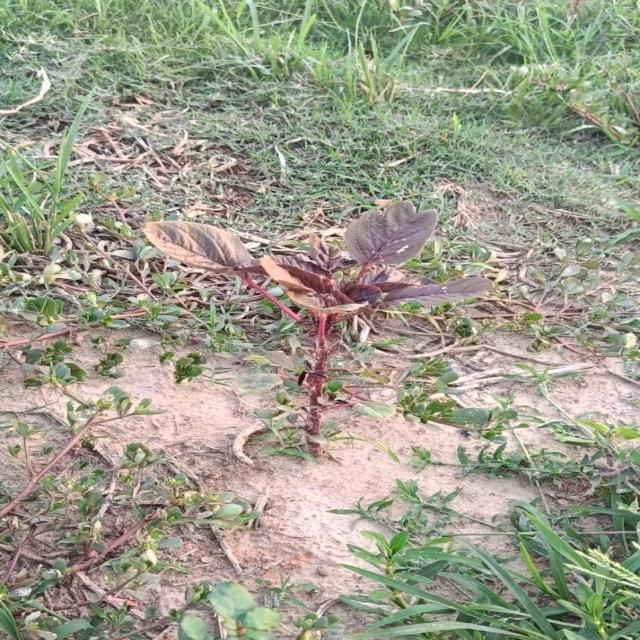plant: (143, 201, 493, 456)
